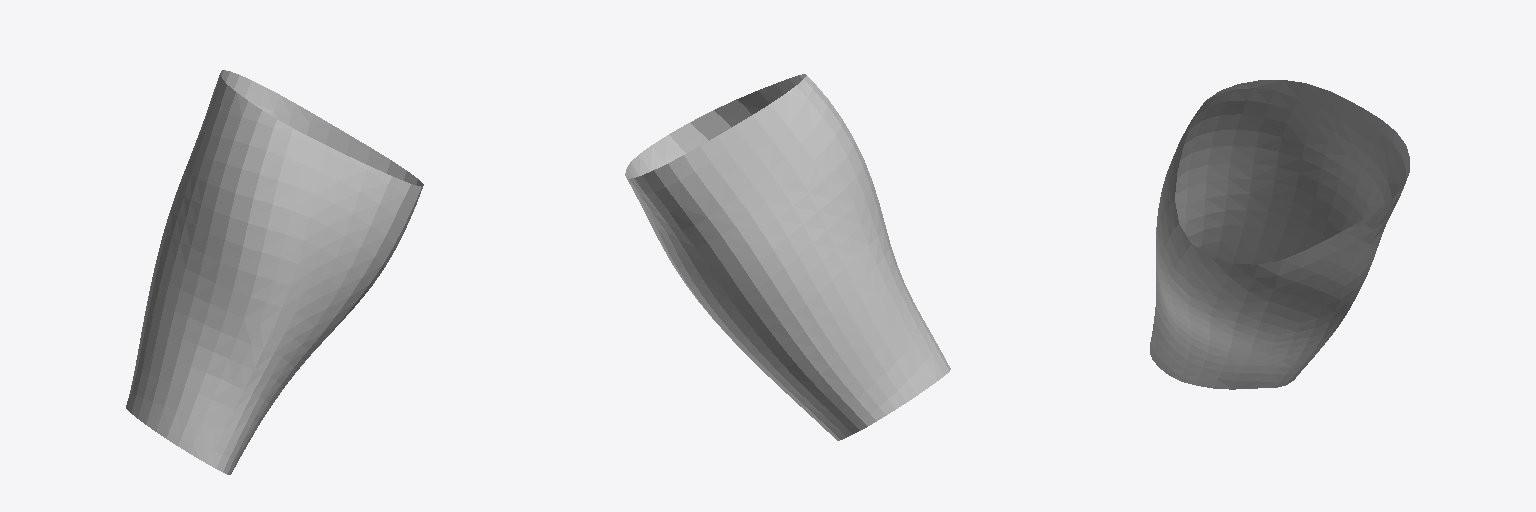
Rendered from mana2D.obj.
3 views of the same model, side by side, from view 1: azimuth 30°, elevation 25°; view 2: azimuth 150°, elevation 25°; view 3: azimuth 270°, elevation 25° (orthographic).
Parts seen in each view (by area): view 1: mana2D; view 2: mana2D; view 3: mana2D.
Boxes of the visible parts, x1=… form: mana2D: x1=126, y1=70, x2=423, y2=474; mana2D: x1=625, y1=74, x2=950, y2=440; mana2D: x1=1150, y1=80, x2=1409, y2=389.
Bounding box in the file's own units: 1.77 × 2.03 × 1.43.